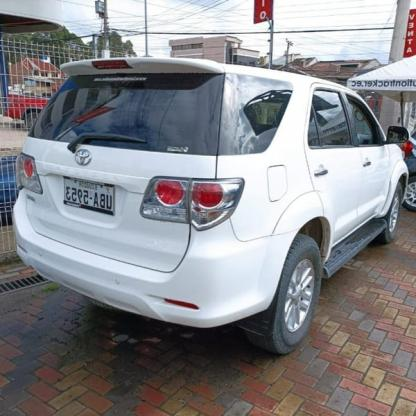Placa: (60, 177, 118, 212)
